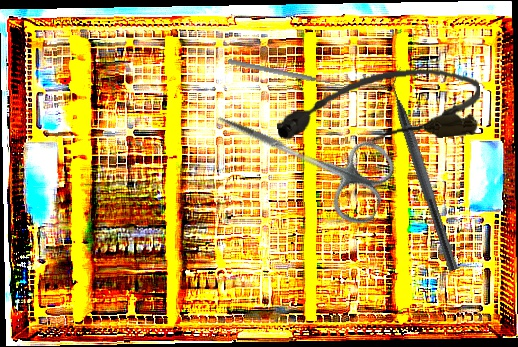Cannula: (273, 63, 484, 152)
Chopper: (381, 66, 472, 272)
Iris Scissors: (201, 83, 401, 230)
Pusher: (227, 57, 344, 90)
